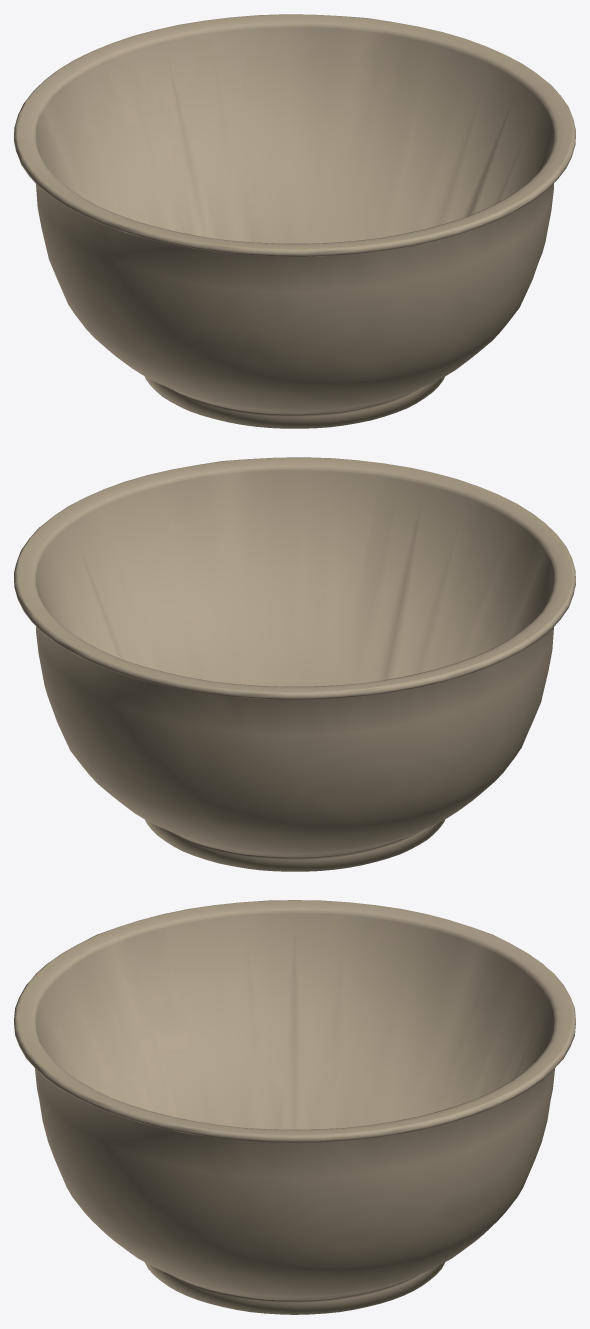
The model's file is optimized_glb.glb.
3 views of the same model, one above another, from view 1: azimuth 30°, elevation 25°; view 2: azimuth 150°, elevation 25°; view 3: azimuth 270°, elevation 25° (orthographic).
Visible parts, largest first — view 1: Hot Pot Bowl; view 2: Hot Pot Bowl; view 3: Hot Pot Bowl.
Boxes of the visible parts, bbox=[...] form: Hot Pot Bowl: bbox=[14, 14, 575, 428]; Hot Pot Bowl: bbox=[14, 457, 575, 871]; Hot Pot Bowl: bbox=[14, 900, 575, 1314].
Bounding box in the file's own units: 0.998 × 0.4551 × 0.998.
1 material, 1 textured.
